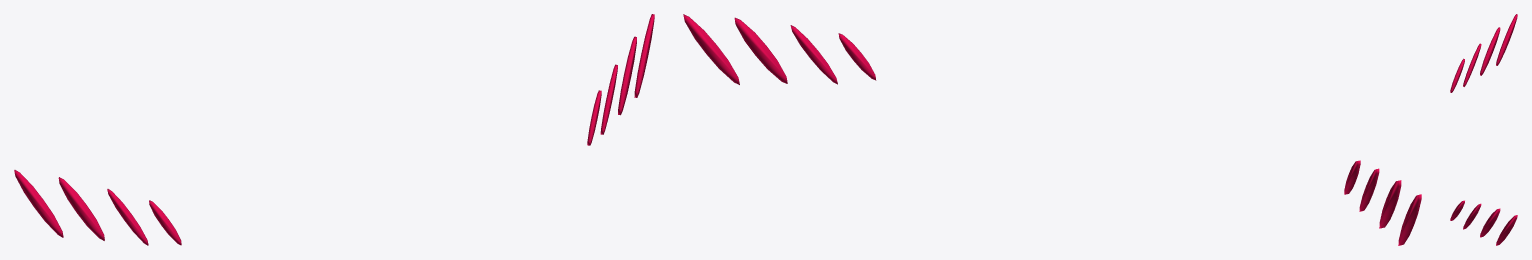
The model's file is hoppe.fbx.
3 views of the same model, side by side, from view 1: azimuth 30°, elevation 25°; view 2: azimuth 150°, elevation 25°; view 3: azimuth 270°, elevation 25° (orthographic). The views are drawn at different scales.
Parts seen in each view (by area): view 1: hoppe; view 2: hoppe; view 3: hoppe.
Boxes of the visible parts, bbox=[...] form: hoppe: bbox=[14, 14, 654, 245]; hoppe: bbox=[683, 14, 1421, 245]; hoppe: bbox=[1450, 14, 1517, 245].
Size of the model in its own units: 0.4778 by 0.0679 by 0.0483.
